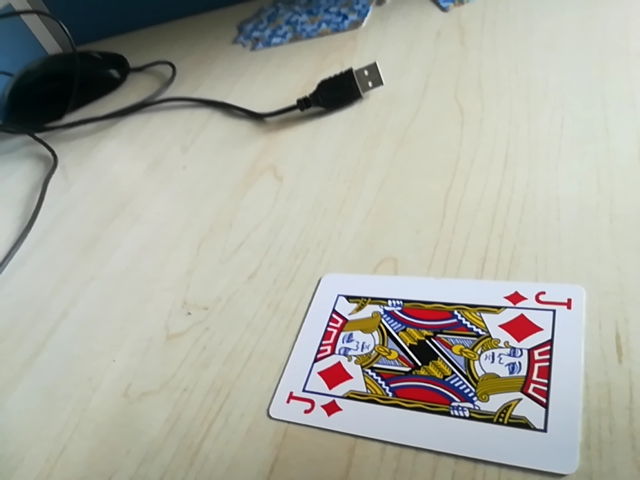fk j: (280, 395, 343, 423), (507, 288, 576, 313)
